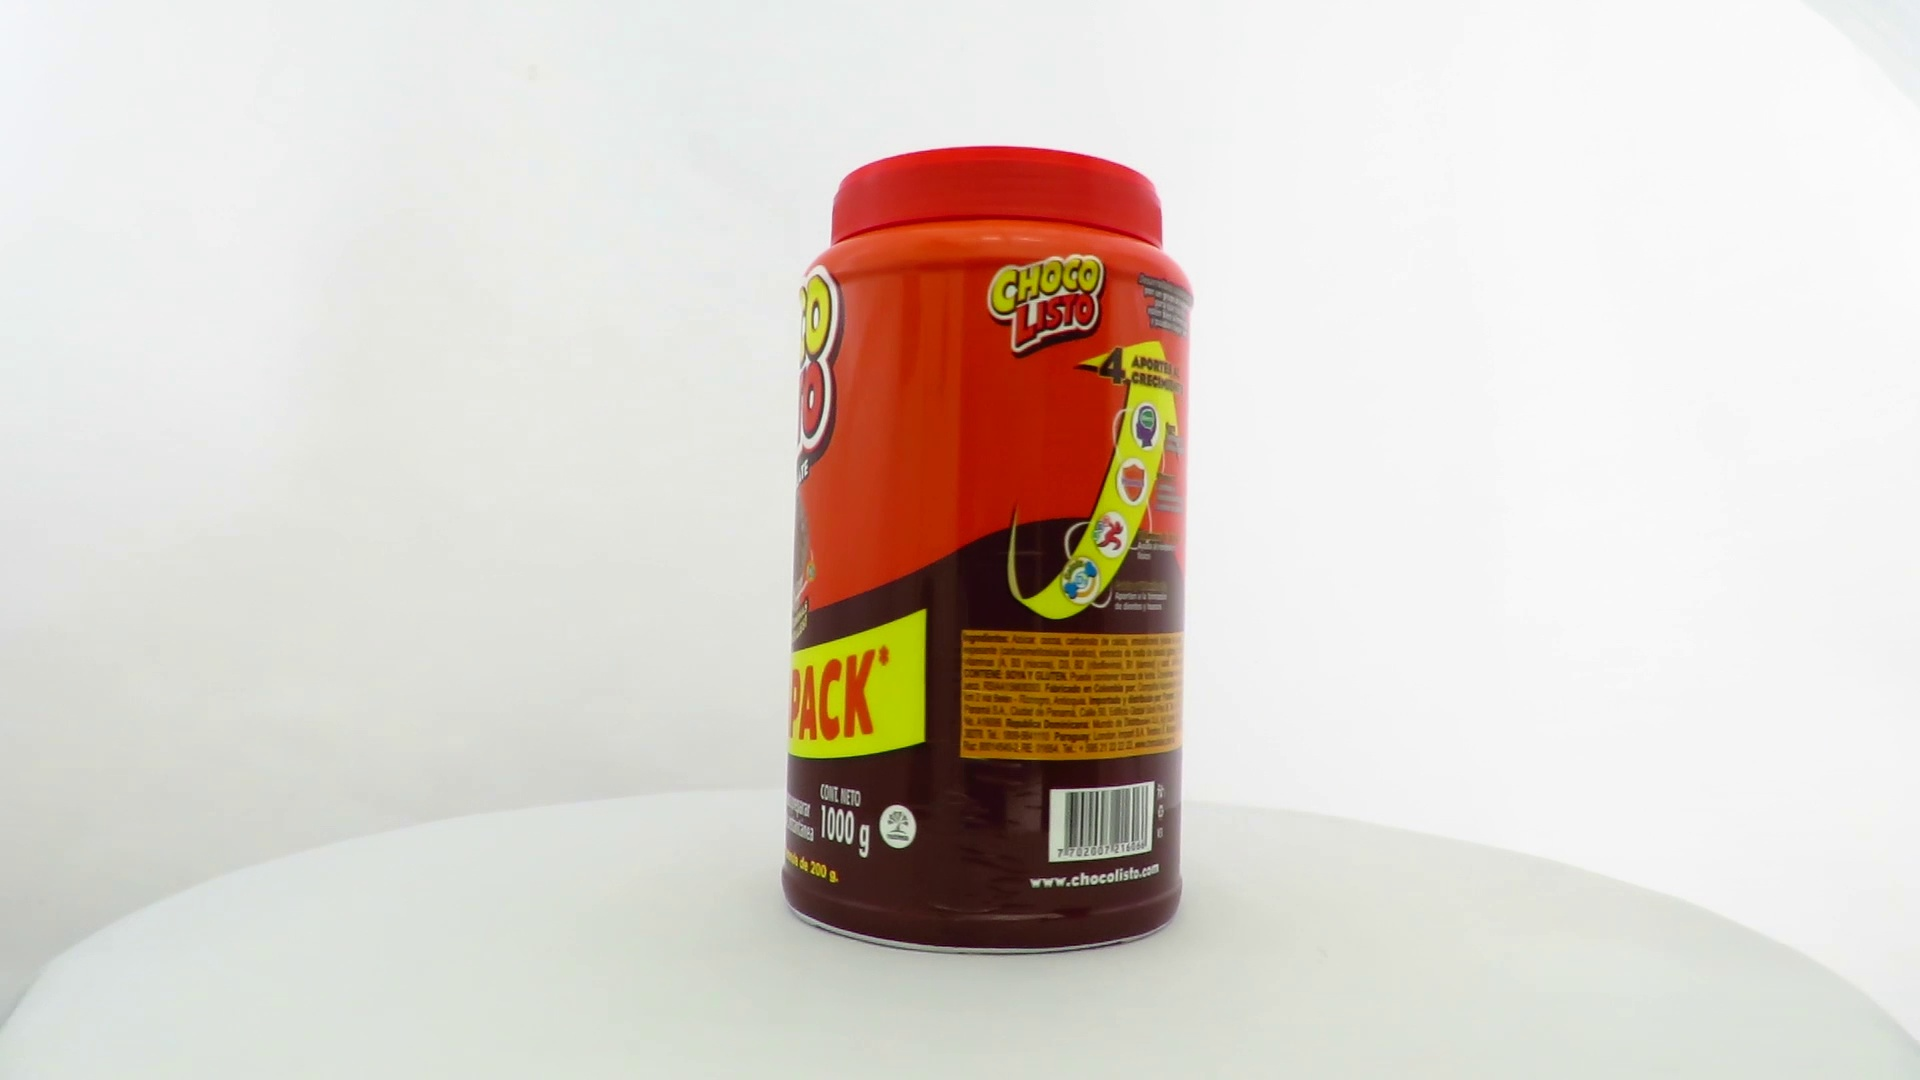COL0170103TRR00100: (775, 141, 1199, 963)
